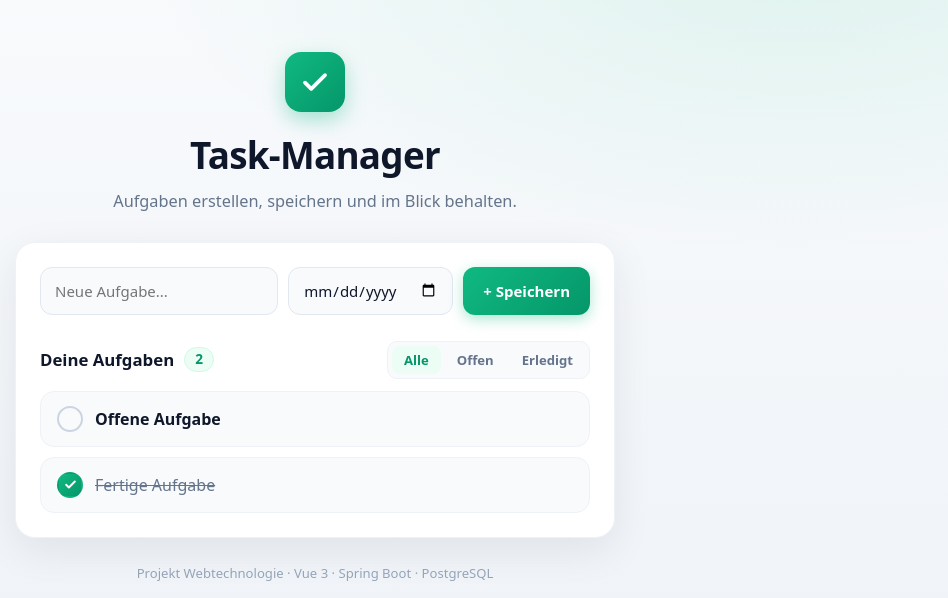
TaskList › filtert Aufgaben ueber die Tabs Alle/Offen/Erledigt
Expected: the number of list items with class "task-item" is 2, [40,391,590,447]; [40,457,590,513]
What coordinates should you click on to do the following:
click the button "Offen"
I would click on:
 (475, 360)
Its box is [445,346,506,374].
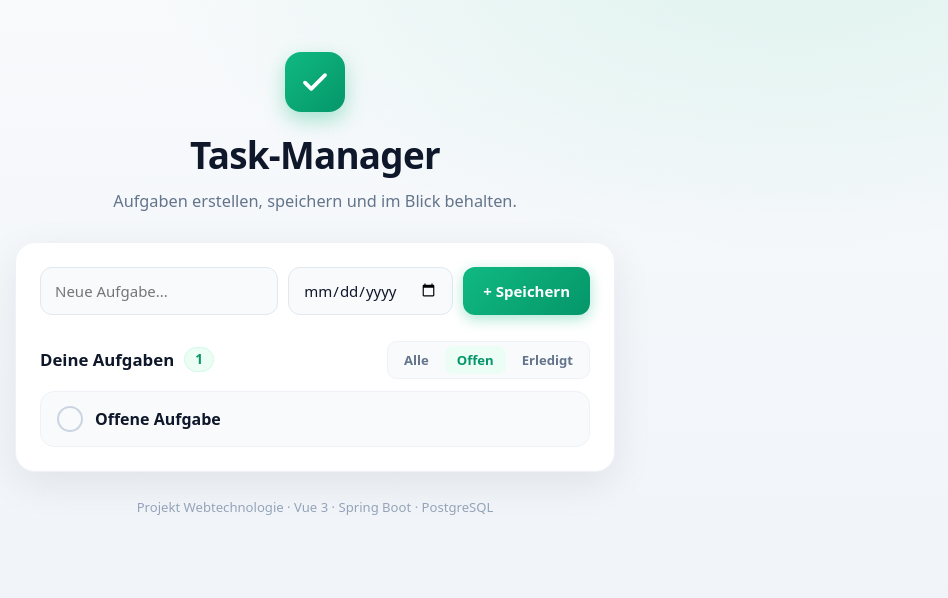
Expected: the text "Offene Aufgabe" is shown, [95,408,221,430]
Result: the number of list items with class "task-item" is 1 at [40,391,590,447]
Result: the text "Fertige Aufgabe" is gone
What coordinates should you click on to do the following:
click the button "Erledigt"
I would click on:
 (547, 360)
Its box is [510,346,585,374].
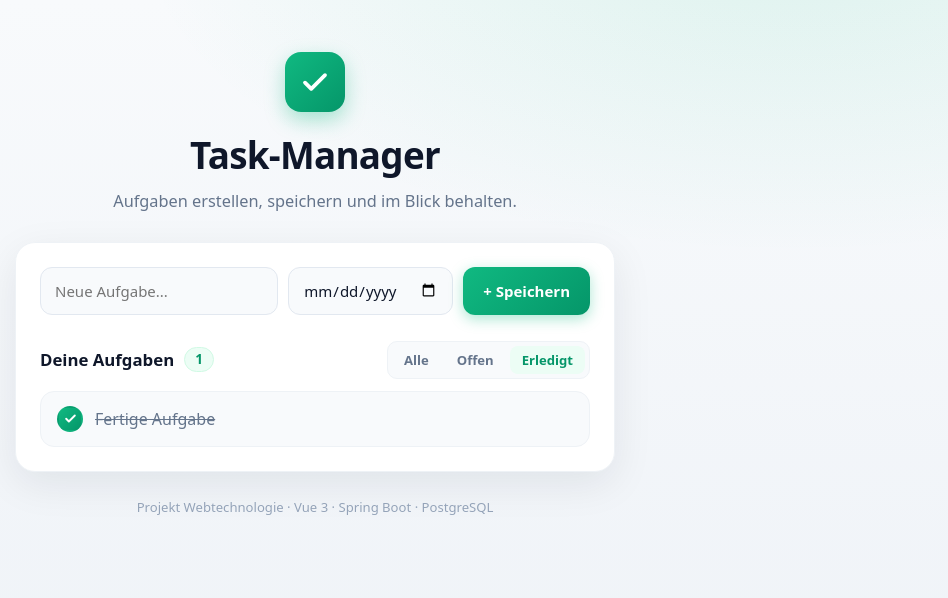
Result: the number of list items with class "task-item" is 1 at [40,391,590,447]
Result: the text "Fertige Aufgabe" is shown at [95,408,215,430]
